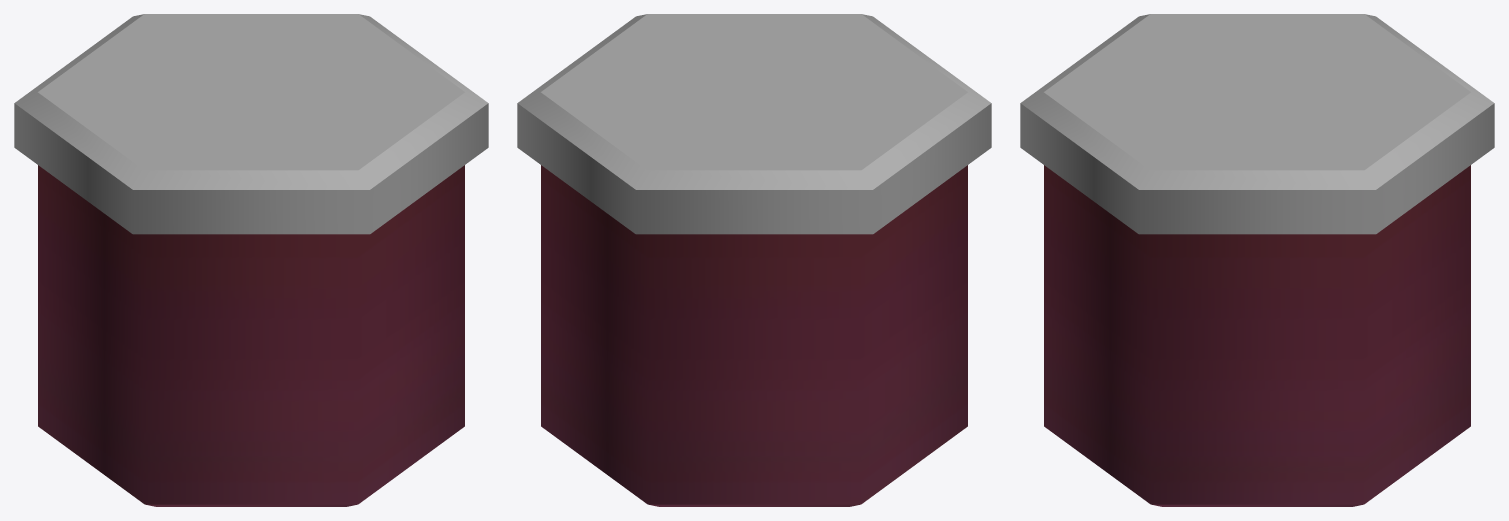
Rendered from Jar_2_C.fbx.
3 renders of one model, left to right at view 1: azimuth 30°, elevation 25°; view 2: azimuth 150°, elevation 25°; view 3: azimuth 270°, elevation 25°, orthographic.
Visible parts, largest first — view 1: Jar_2_C; view 2: Jar_2_C; view 3: Jar_2_C.
Part boxes in pixels (x1,y1,x2,y2): Jar_2_C: [14, 14, 488, 506]; Jar_2_C: [517, 14, 991, 506]; Jar_2_C: [1020, 14, 1494, 506].
Size of the model in its own units: 17.99 by 16.69 by 20.77.
